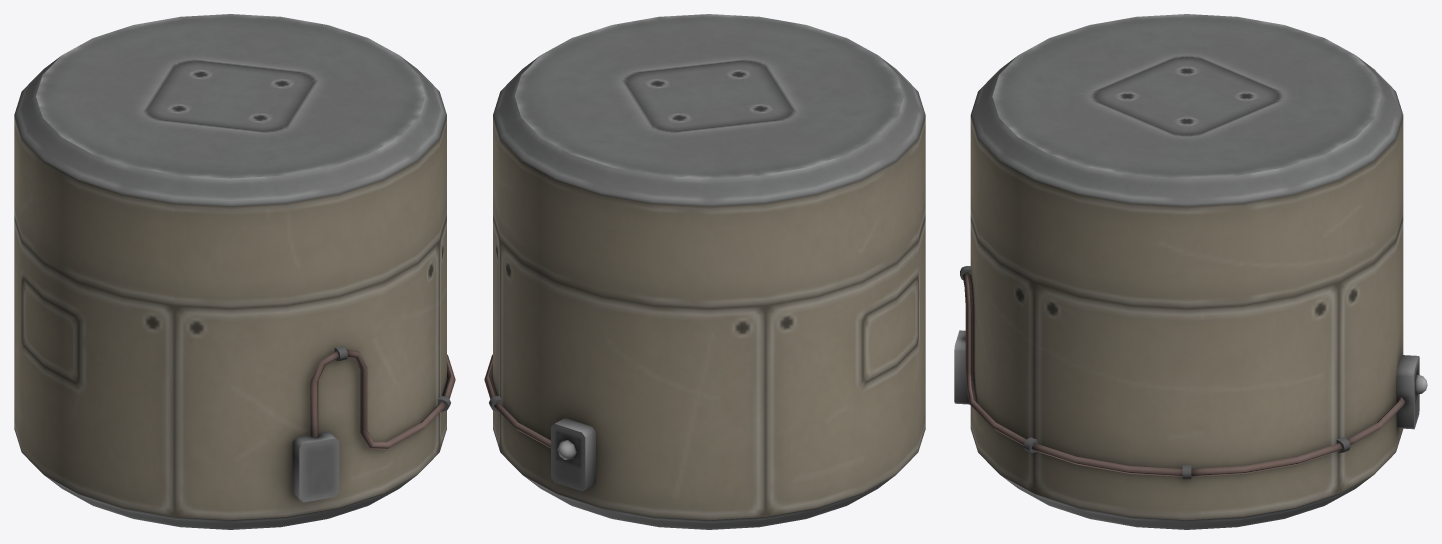
File: Ara_MaterialsBay_1.obj
3 views of the same model, side by side, from view 1: azimuth 30°, elevation 25°; view 2: azimuth 150°, elevation 25°; view 3: azimuth 270°, elevation 25° (orthographic).
Parts seen in each view (by area): view 1: Ara_MaterialsBay_1; view 2: Ara_MaterialsBay_1; view 3: Ara_MaterialsBay_1.
Part boxes in pixels (x1=…): Ara_MaterialsBay_1: x1=14, y1=14, x2=455, y2=529; Ara_MaterialsBay_1: x1=484, y1=14, x2=925, y2=529; Ara_MaterialsBay_1: x1=954, y1=14, x2=1419, y2=529.
Size of the model in its own units: 0.6406 by 0.56 by 0.6835.
